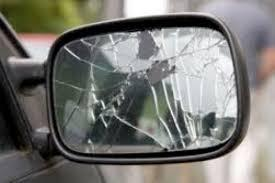Sidemirror-Damage: (33, 11, 245, 168)
